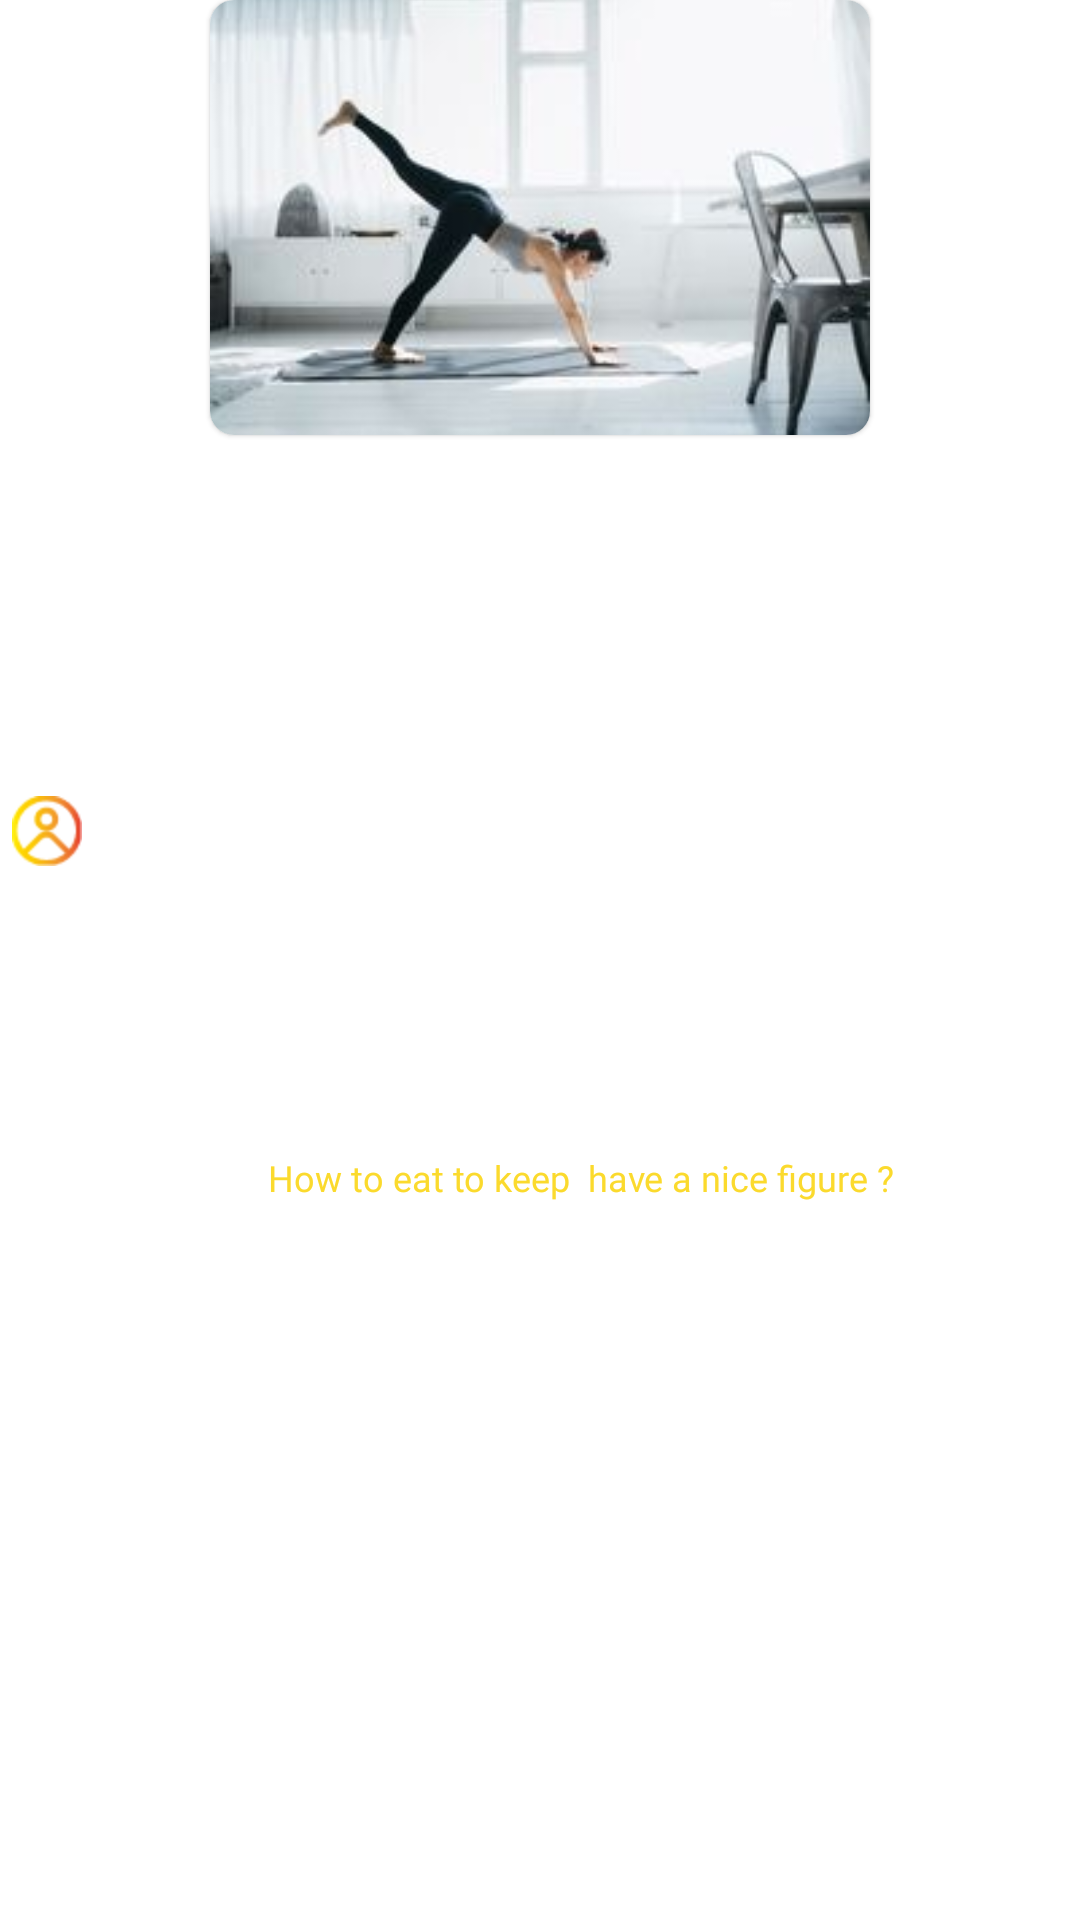

Named icons in this screenshot (1080 × 1920) and their bounding boxes, [x1, y1, x2, y2]:
user: [12, 796, 82, 866]
